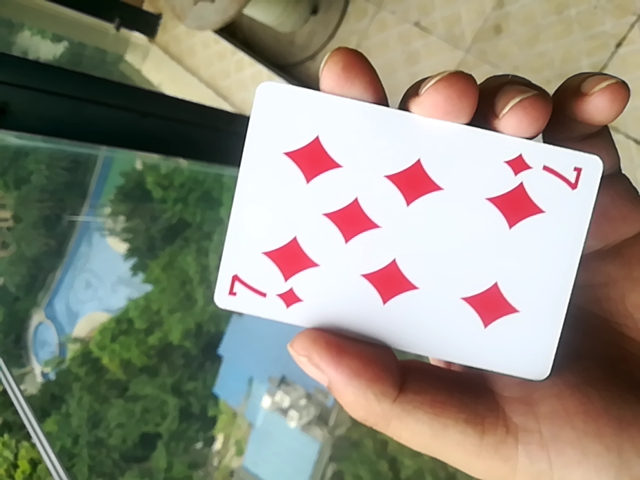fk 7: (209, 77, 609, 385)
